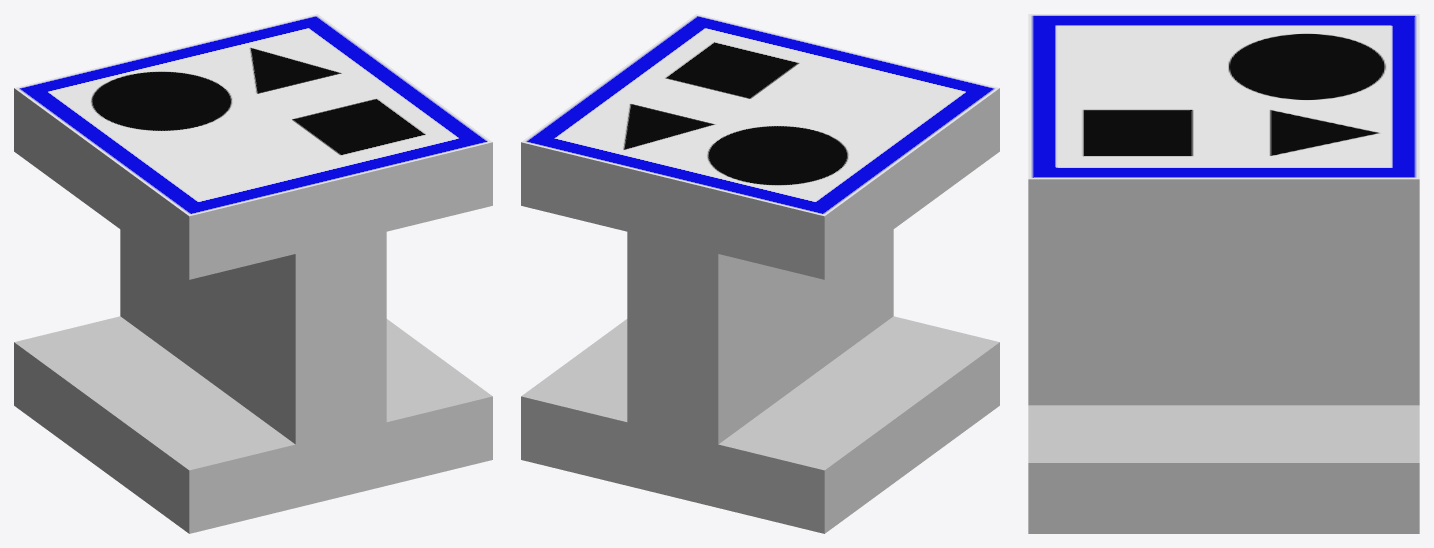
Rendered from Cubo1.dae.
3 views of the same model, side by side, from view 1: azimuth 30°, elevation 25°; view 2: azimuth 150°, elevation 25°; view 3: azimuth 270°, elevation 25° (orthographic). The views are drawn at different scales.
Parts seen in each view (by area): view 1: cubo; view 2: cubo; view 3: cubo.
Boxes of the visible parts, left/top/right/bottom form: cubo: left=14, top=14, right=492, bottom=533; cubo: left=521, top=14, right=999, bottom=533; cubo: left=1028, top=14, right=1419, bottom=533.
Size of the model in its own units: 0.1 by 0.1 by 0.1.
Materials: 2 (1 with a texture image).
